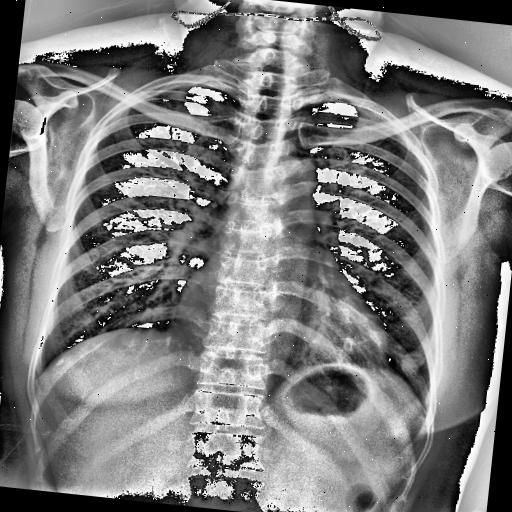0- Aortic enlargement: (262, 150, 324, 200)
3- Cardiomegaly: (166, 291, 400, 381), (170, 276, 394, 370), (172, 282, 396, 369)
9- Other lesion: (401, 348, 426, 372)
